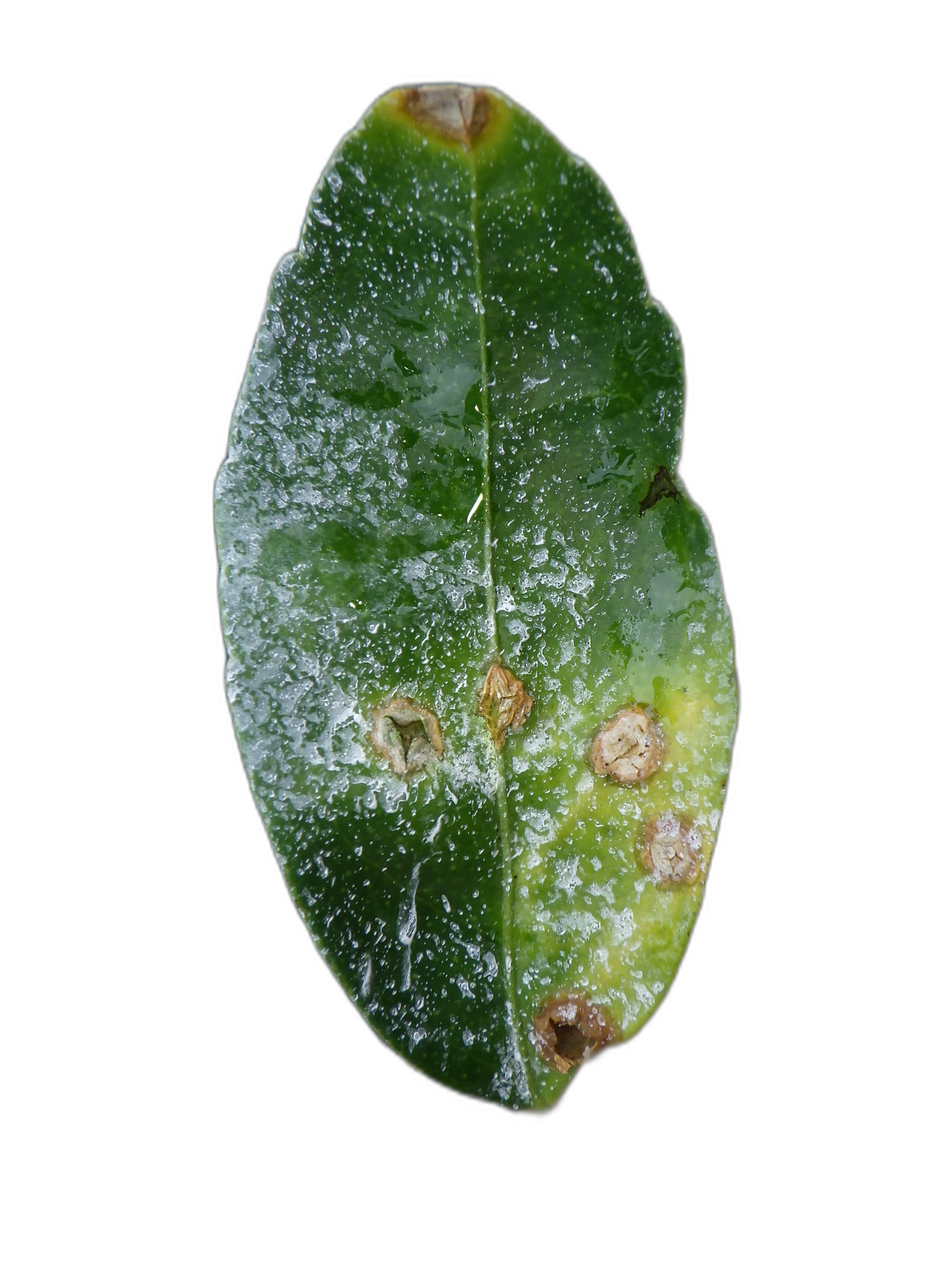Canker: (531, 992, 627, 1073), (633, 810, 708, 894), (589, 706, 664, 784), (371, 697, 443, 775), (477, 655, 532, 751), (405, 89, 491, 139)
